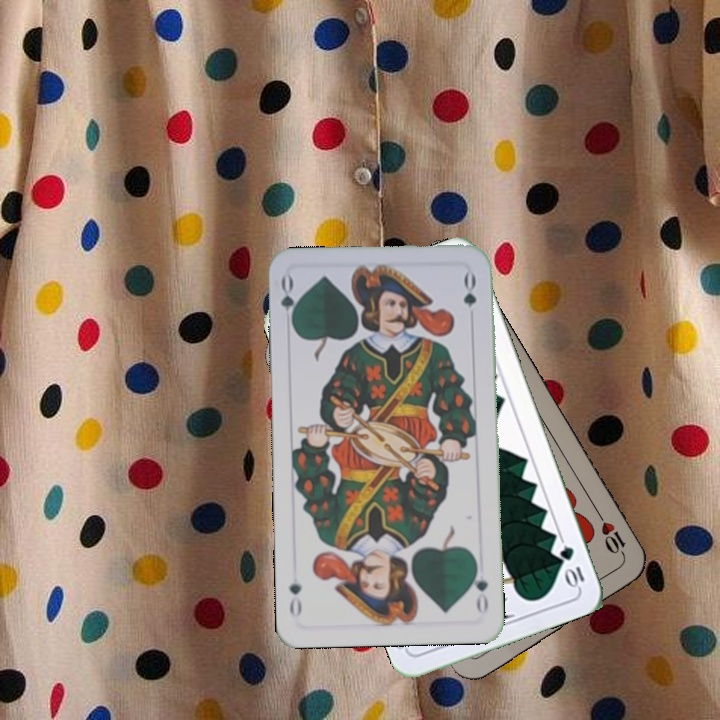G10: (555, 542, 587, 590)
GO: (277, 273, 302, 332), (468, 558, 491, 616)
H10: (593, 508, 629, 562)
